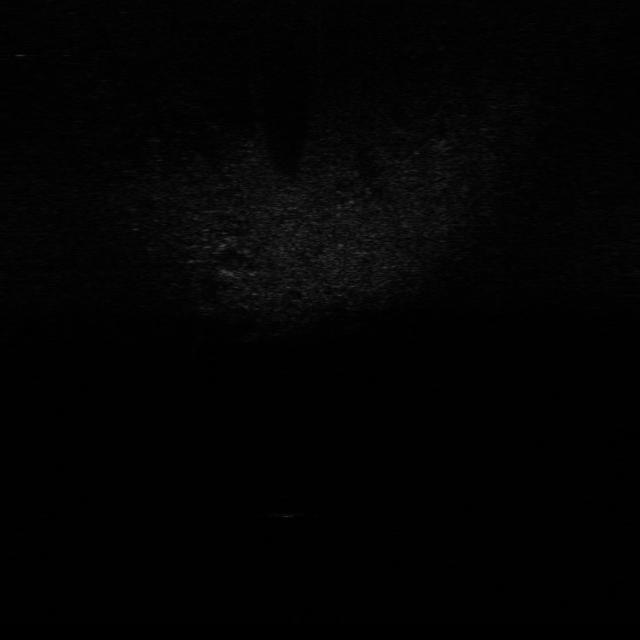ball: (260, 492, 310, 520)
